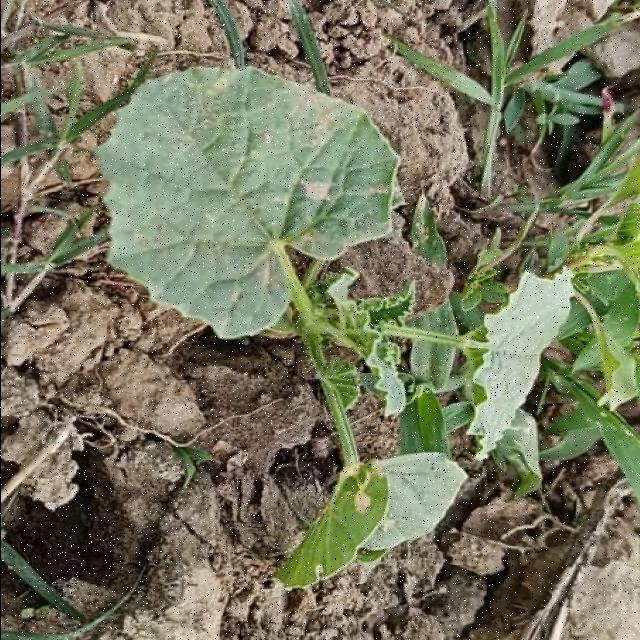plant: (97, 69, 570, 588)
